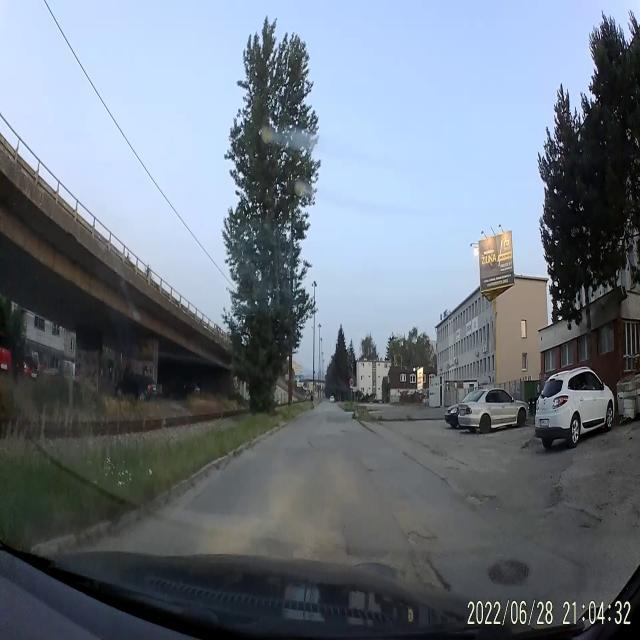Manhole: (486, 556, 530, 586)
Pothole: (404, 528, 442, 552), (574, 511, 606, 530), (464, 494, 482, 507), (366, 467, 377, 473), (340, 428, 349, 432)
